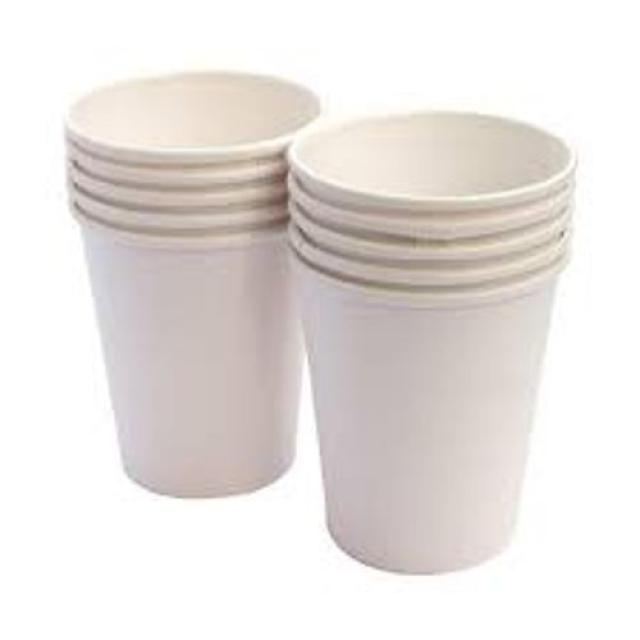PaperCardboard: (277, 96, 576, 573), (65, 66, 321, 500)
